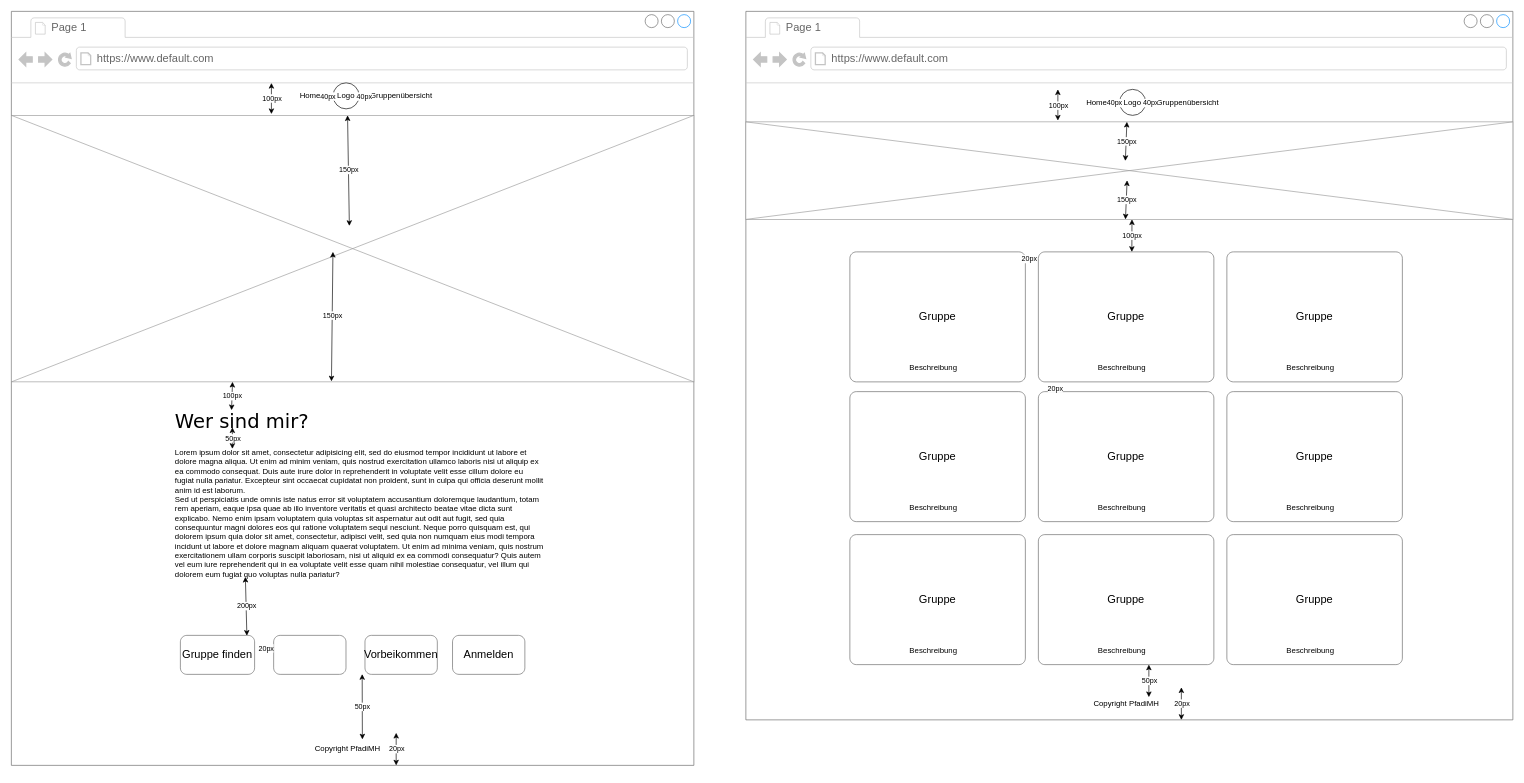
This 1524x783 diagram has some shape labels left out. Each missing label, with the centre of its shape:
Datum abmachen: point (309, 654)
Gruppen: point (1129, 170)
Pfadi MH: point (352, 248)
